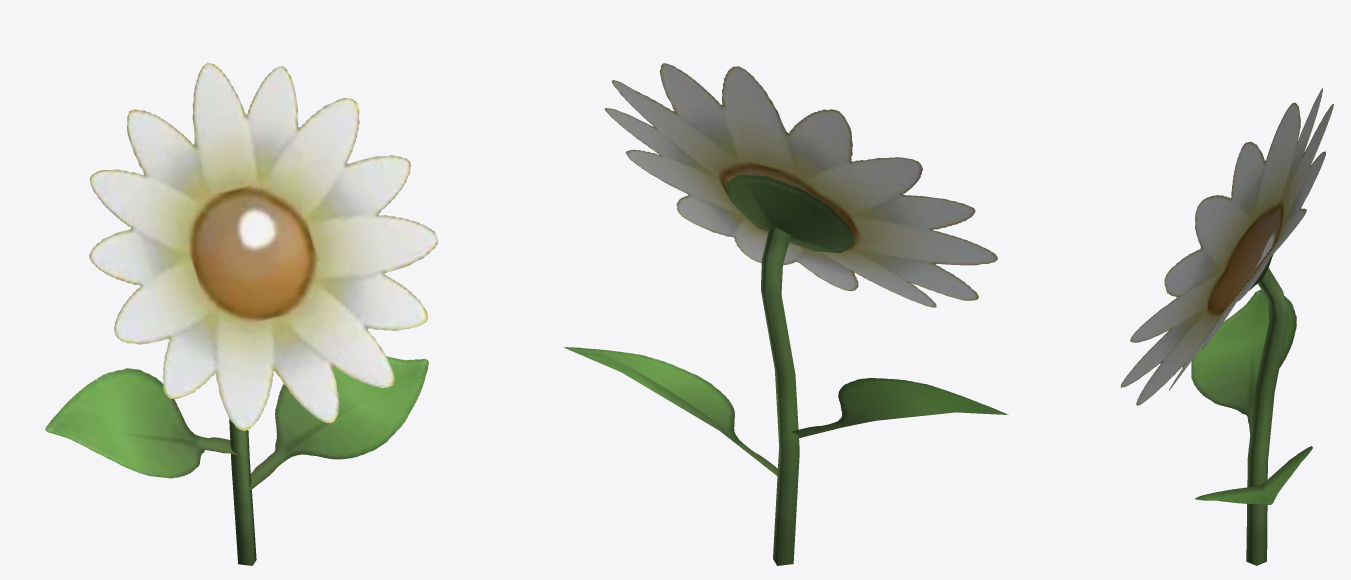
The model's file is whiteflower.glb.
3 renders of one model, left to right at view 1: azimuth 30°, elevation 25°; view 2: azimuth 150°, elevation 25°; view 3: azimuth 270°, elevation 25°, orthographic. The views are drawn at different scales.
Visible parts, largest first — view 1: whiteFlower; view 2: whiteFlower; view 3: whiteFlower.
Boxes of the visible parts, left/top/right/bottom form: whiteFlower: left=45, top=62, right=438, bottom=565; whiteFlower: left=564, top=63, right=1008, bottom=565; whiteFlower: left=1120, top=88, right=1333, bottom=565.
Bounding box in the file's own units: 0.5424 × 0.5527 × 0.2429.
Materials: 1 (1 with a texture image).
